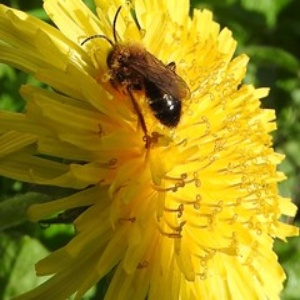bee: (88, 8, 192, 130)
